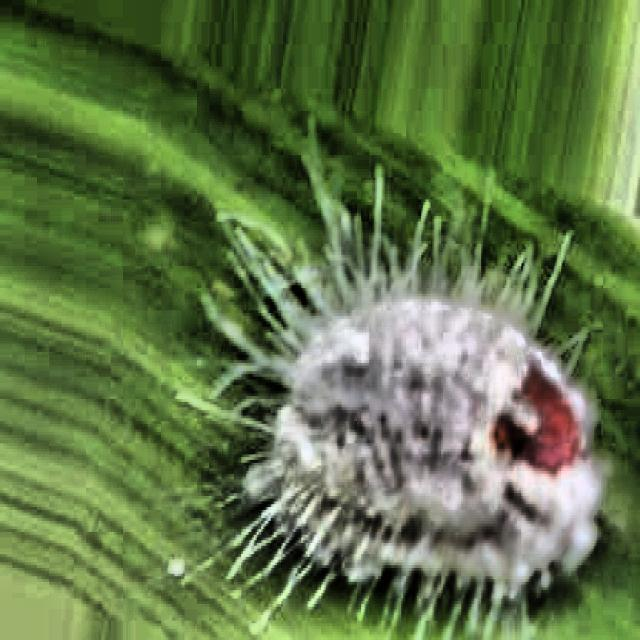Mealy-bug: (254, 210, 606, 620)
